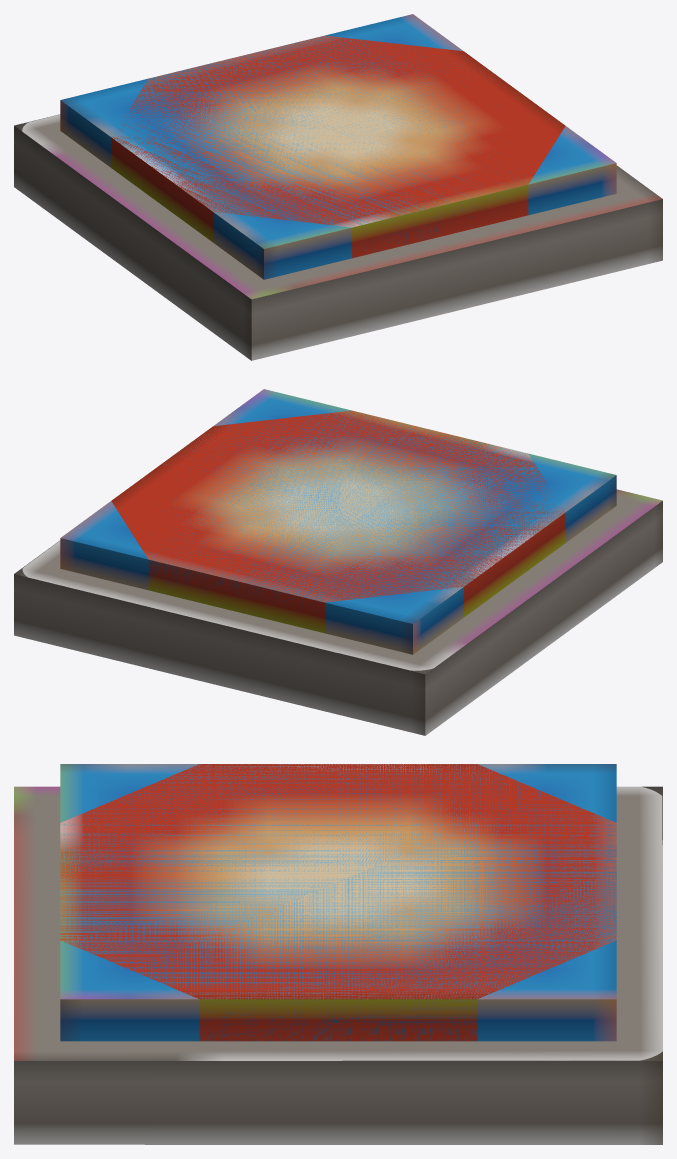
The model's file is Button.fbx.
The picture shows the model from 3 angles, top to bottom: view 1: azimuth 30°, elevation 25°; view 2: azimuth 150°, elevation 25°; view 3: azimuth 270°, elevation 25°; orthographic projection. The views are drawn at different scales.
Parts seen in each view (by area): view 1: Button_OFF, Button_Hold_OFF; view 2: Button_Hold_OFF, Button_OFF; view 3: Button_OFF, Button_Hold_OFF.
Boxes of the visible parts, x1,y1,x2,y2 form: Button_OFF: (65,35,586,338); Button_Hold_OFF: (14,14,662,360); Button_Hold_OFF: (14,389,662,735); Button_OFF: (90,410,611,714); Button_OFF: (17,764,662,1144); Button_Hold_OFF: (14,764,662,1144).
Bounding box in the file's own units: 14 × 3 × 14.
1 material, 1 textured.
